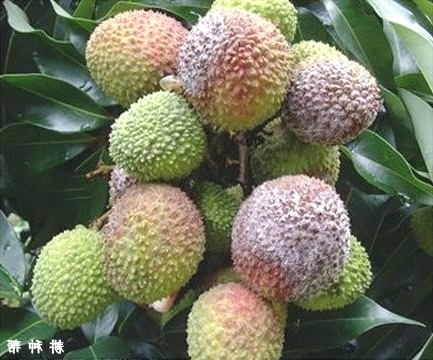Frost_Blight: (232, 177, 349, 289), (96, 130, 166, 279), (283, 56, 371, 139), (177, 8, 246, 113), (203, 279, 269, 343)
